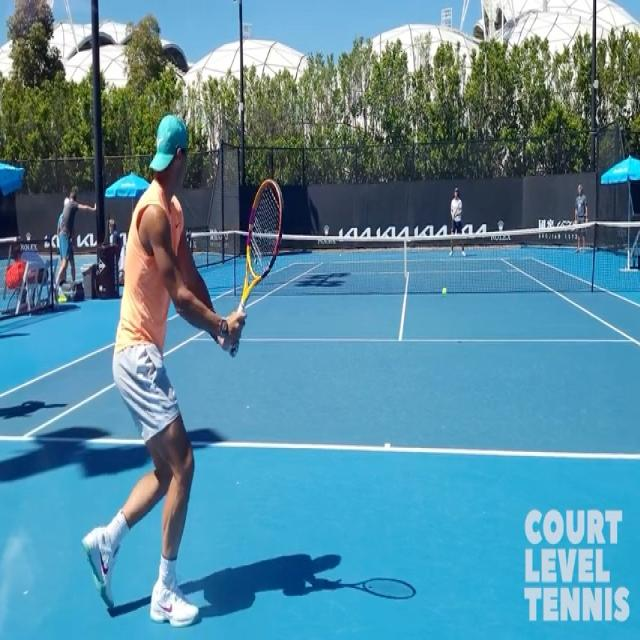backhand-ready: (80, 118, 282, 629)
